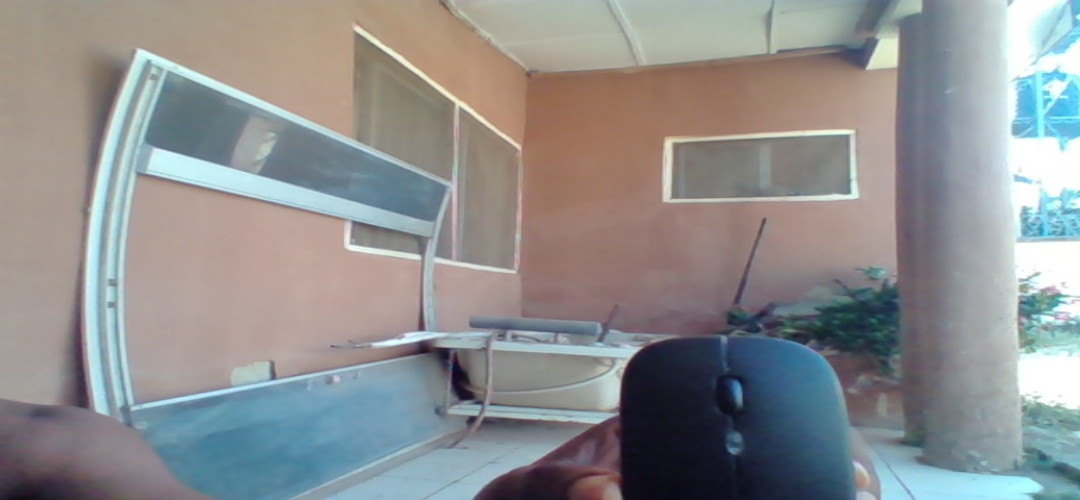wireless_mouse: (622, 338, 853, 499)
